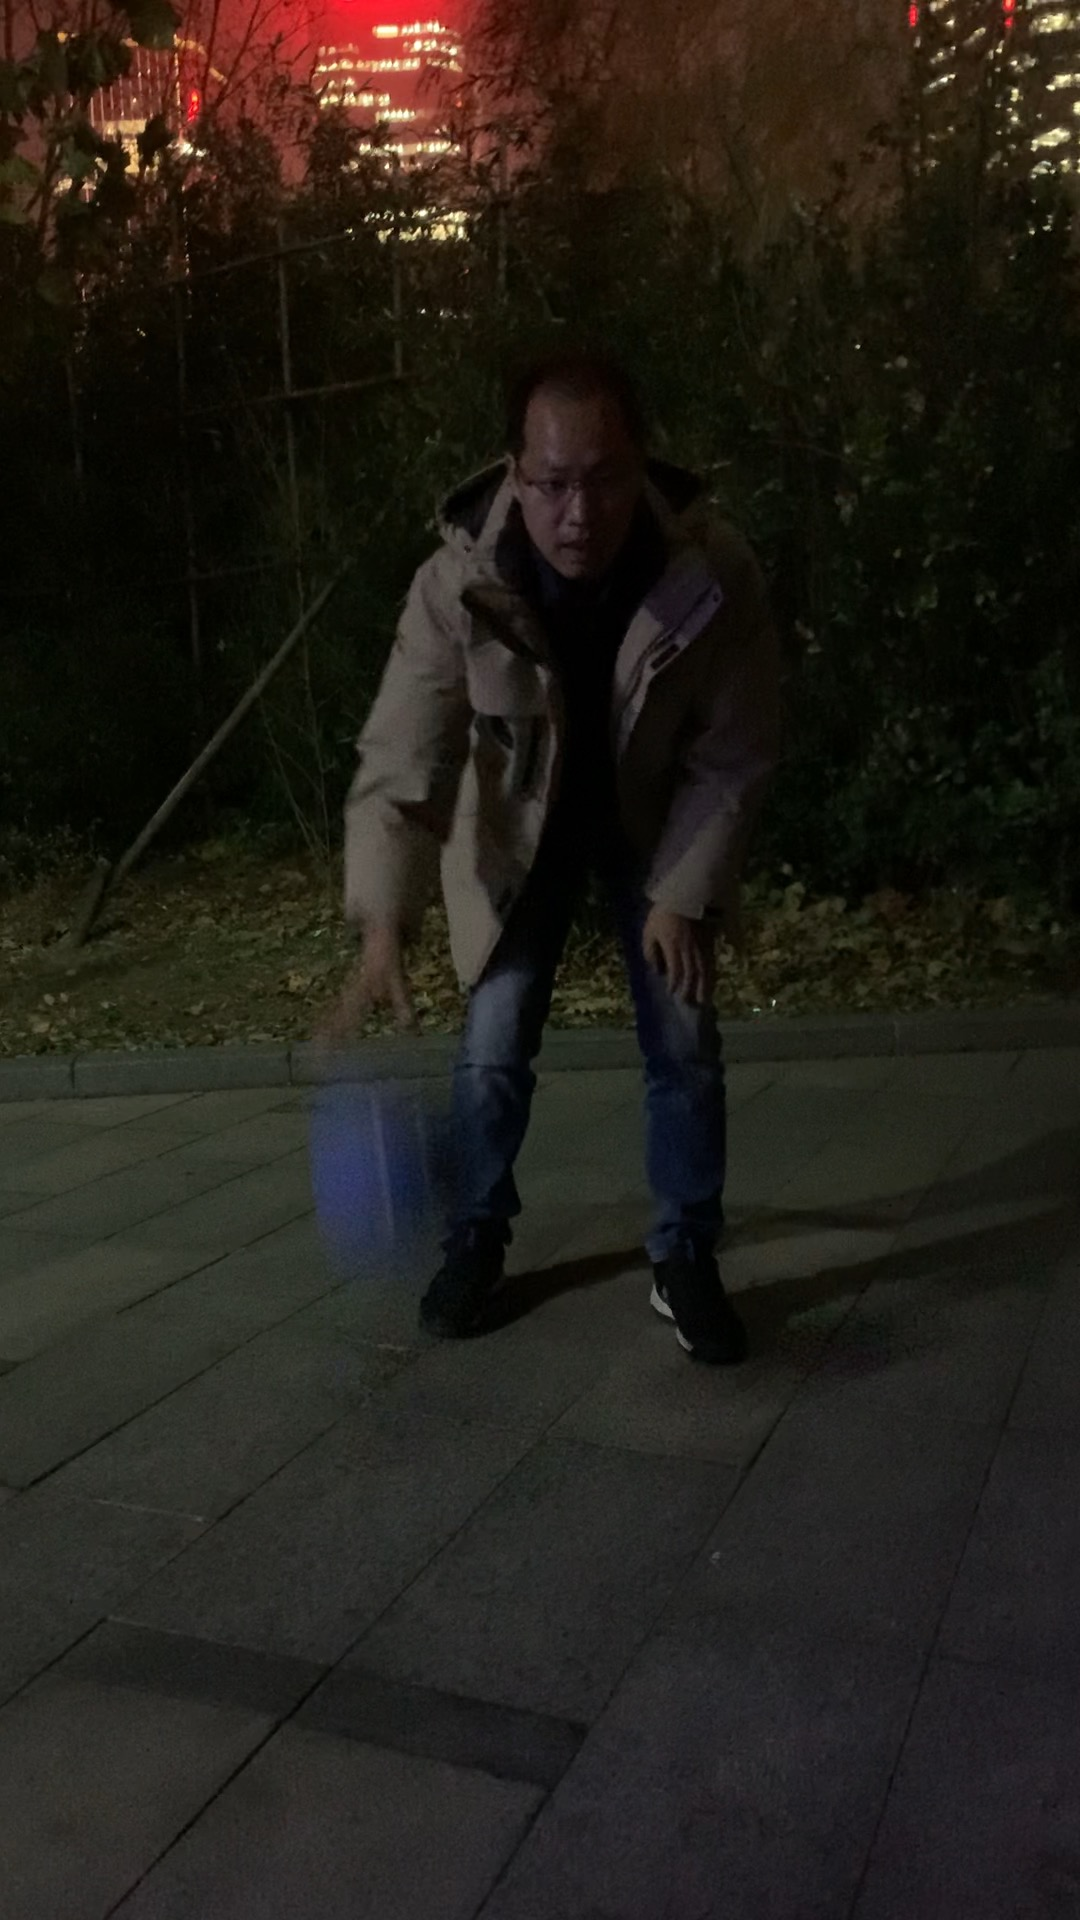ball: (293, 1088, 498, 1265)
